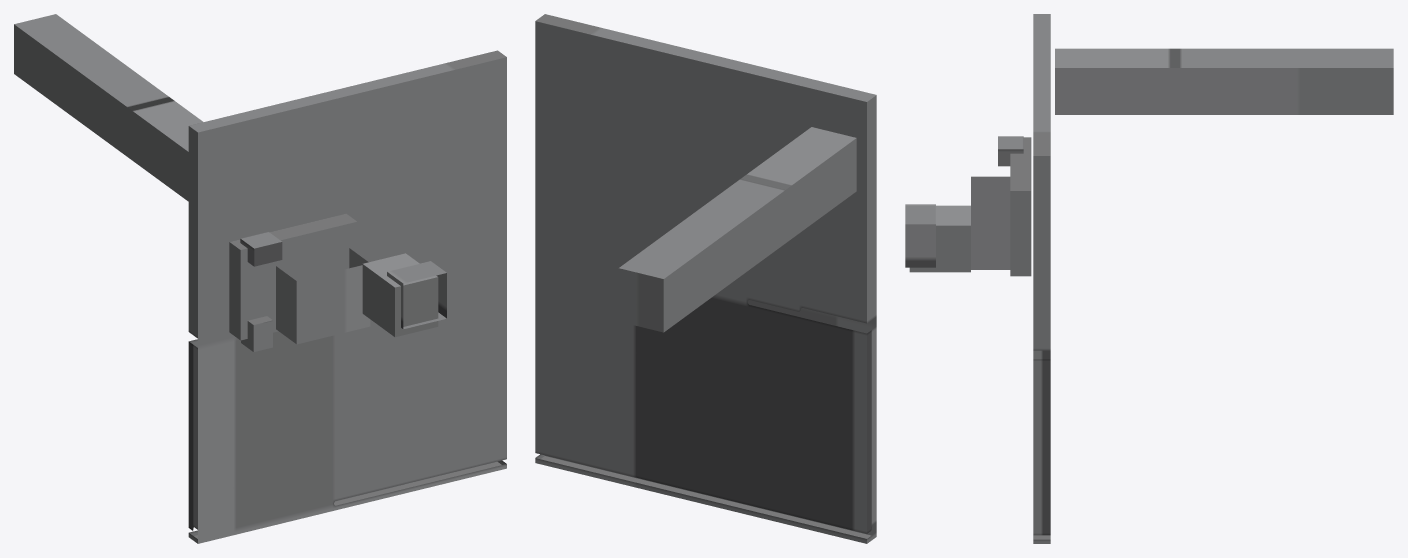
The picture shows the model from 3 angles, left to right: view 1: azimuth 30°, elevation 25°; view 2: azimuth 150°, elevation 25°; view 3: azimuth 270°, elevation 25°; orthographic projection. The views are drawn at different scales.
Size of the model in its own units: 0.7722 by 0.9826 by 1.12.
